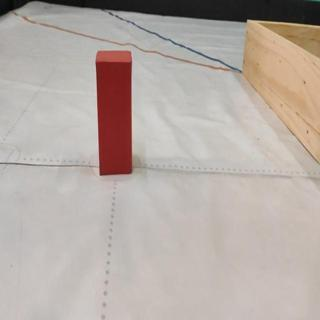redbox: (96, 50, 133, 175)
